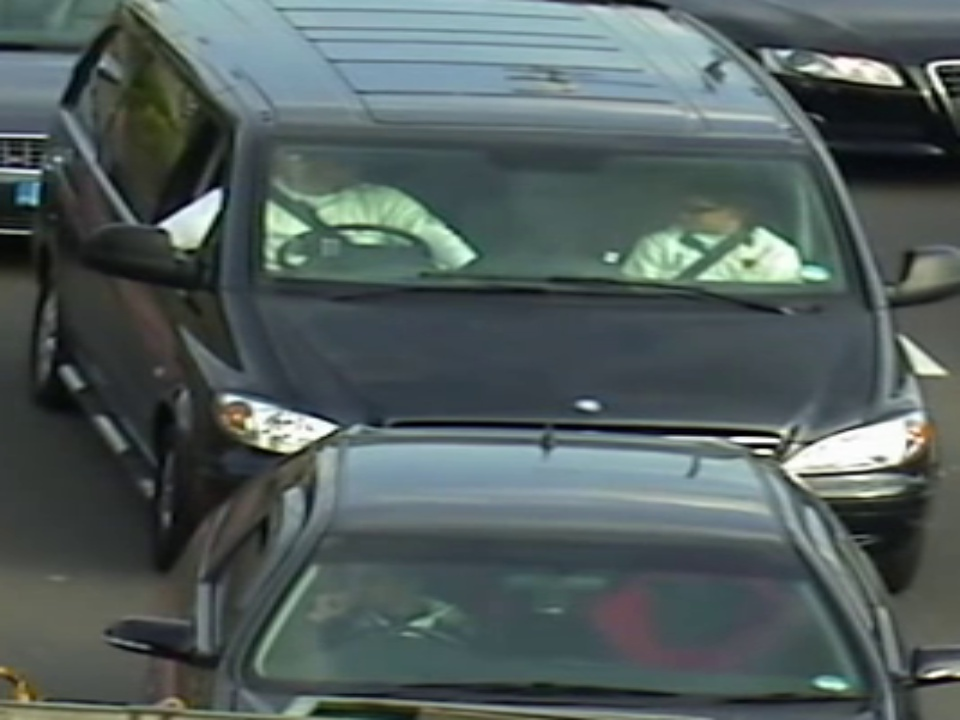TWO: (263, 131, 841, 297)
